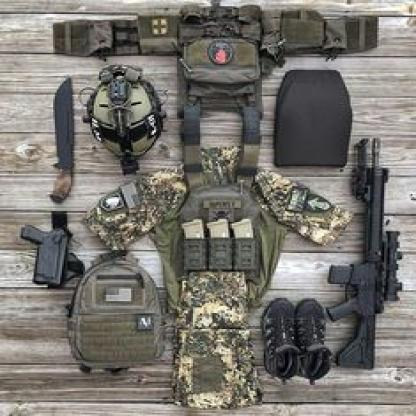Gun: (325, 133, 406, 371)
Knife: (47, 76, 77, 206)
Pistol: (19, 210, 78, 286)
